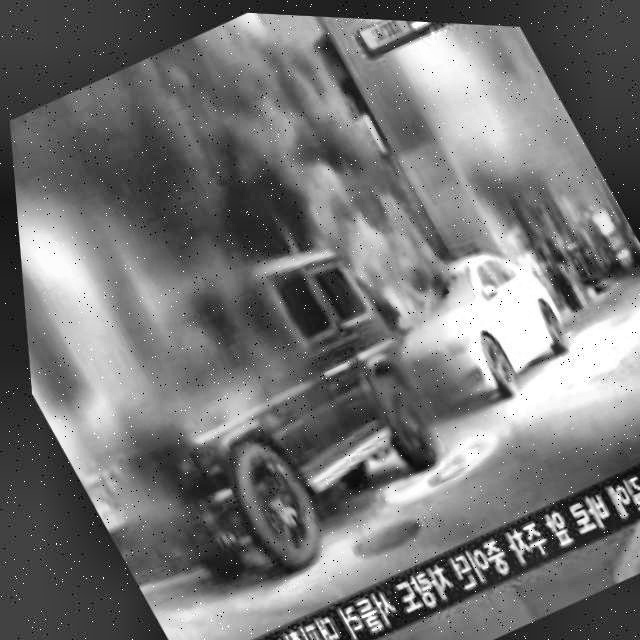Fire: (267, 129, 466, 349)
Smoke: (0, 0, 392, 283)
